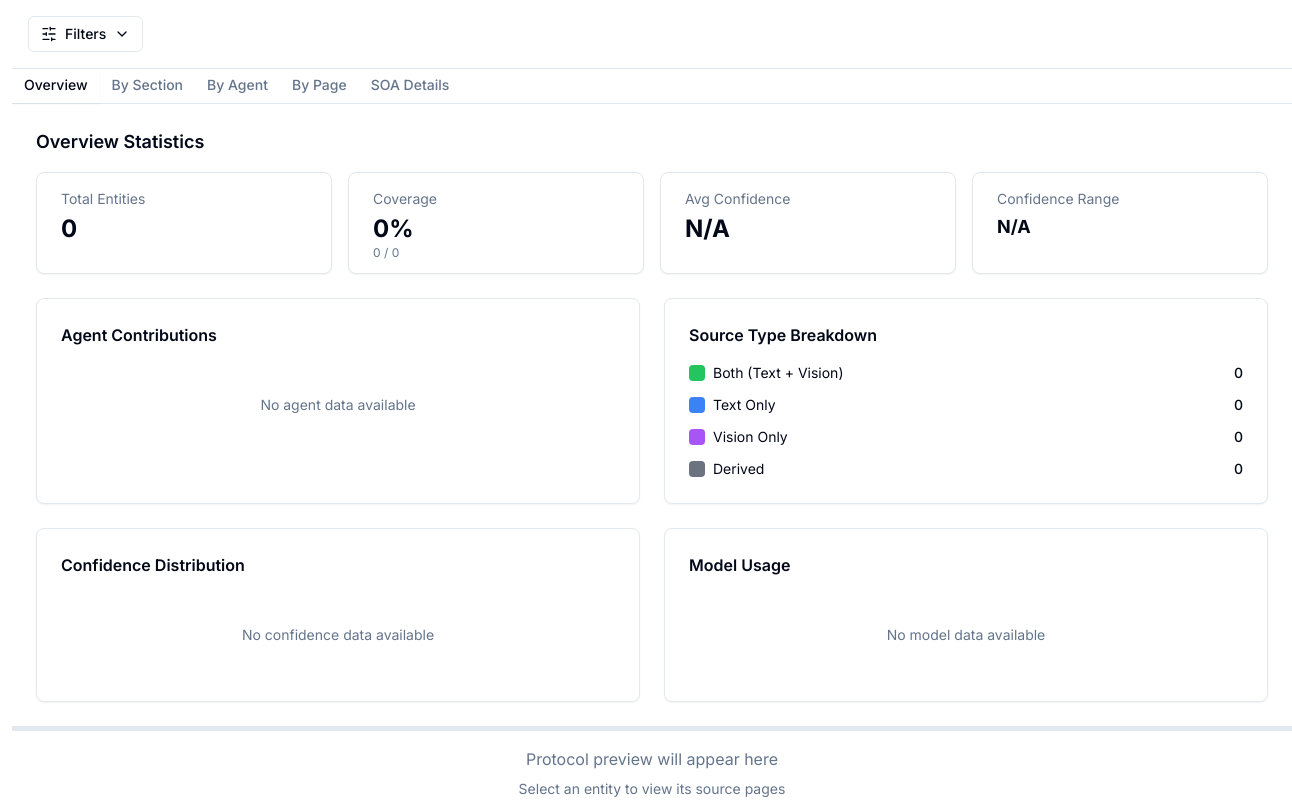
Test case: ProvenanceView - Tab Navigation › renders placeholder content for By Section tab
Click the tab "By Section".
click(147, 86)  # box [100, 69, 195, 103]
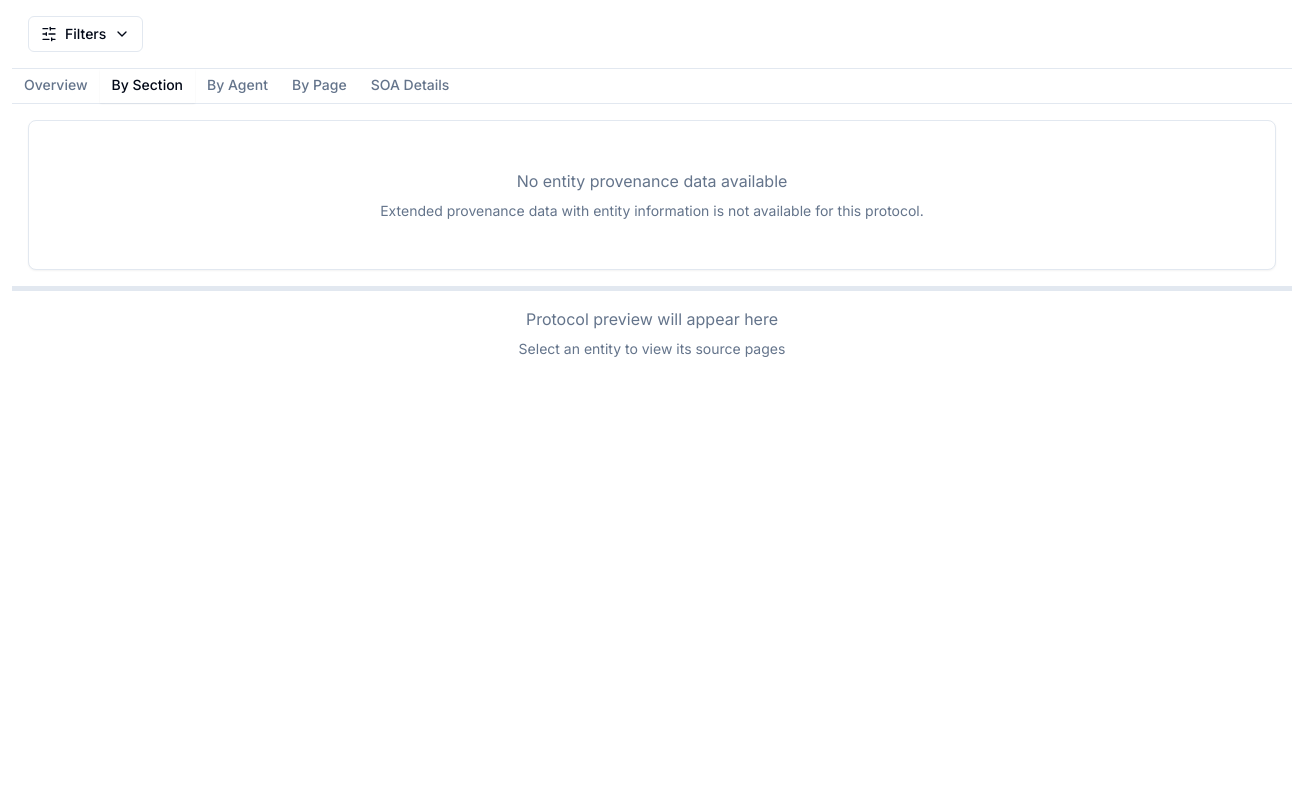
expect the text "No entity provenance data available" is shown: met, box [517, 171, 787, 191]
